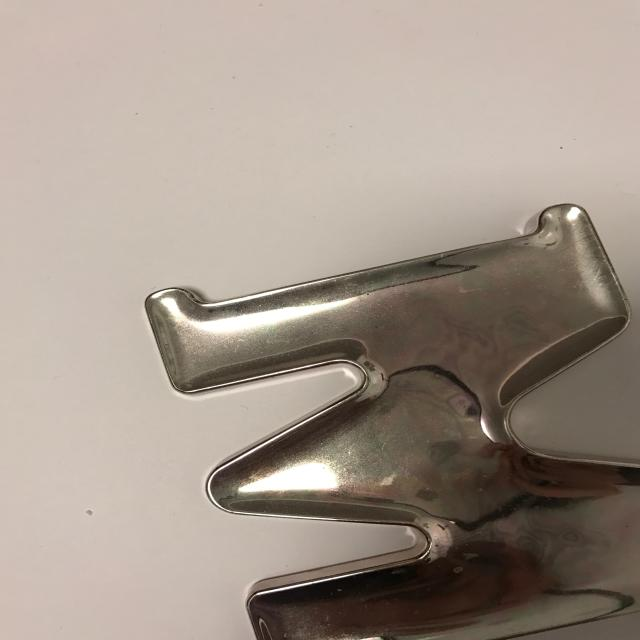metal: (108, 183, 640, 639)
